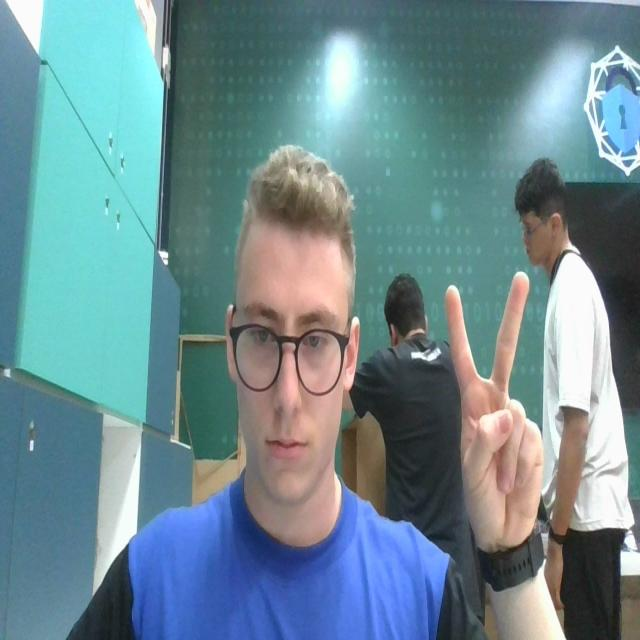V: (442, 268, 547, 540)
